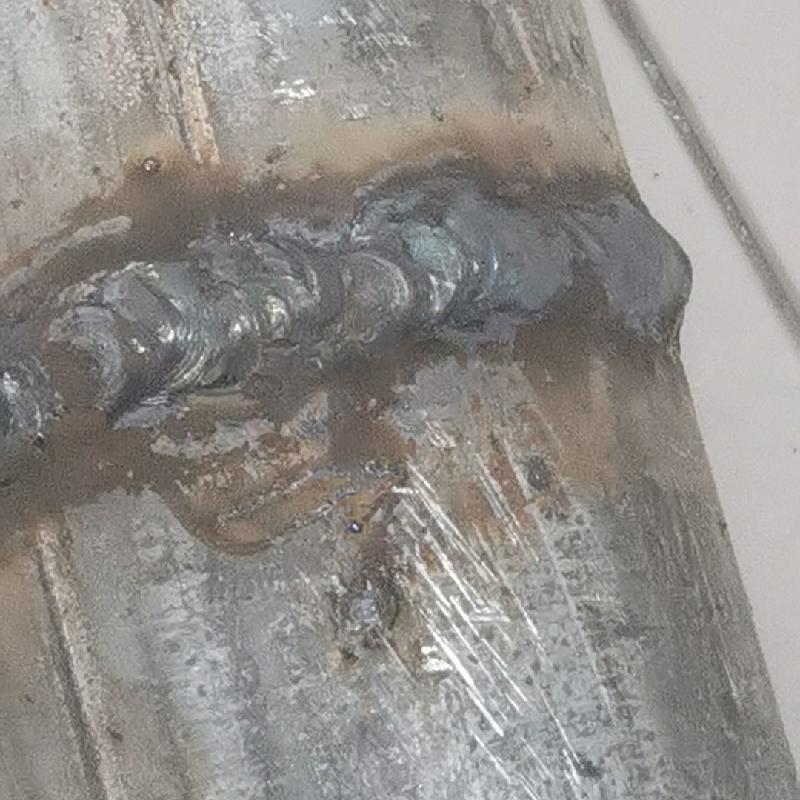good: (5, 185, 699, 439)
